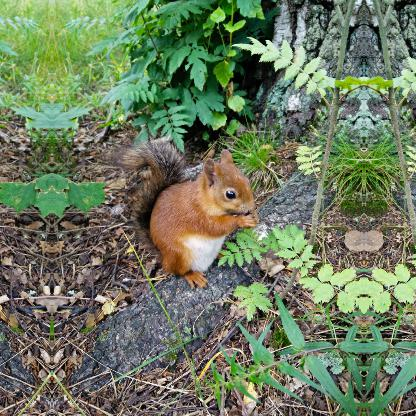Squirrel: (118, 134, 264, 288)
